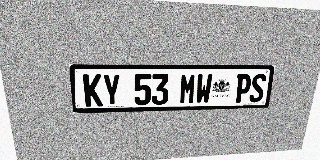3: (152, 74, 169, 105)
5: (134, 74, 151, 105)
K: (83, 74, 103, 107)
M: (179, 74, 197, 104)
P: (234, 74, 252, 103)
S: (248, 74, 267, 102)
W: (195, 74, 213, 104)
Y: (102, 74, 121, 106)
